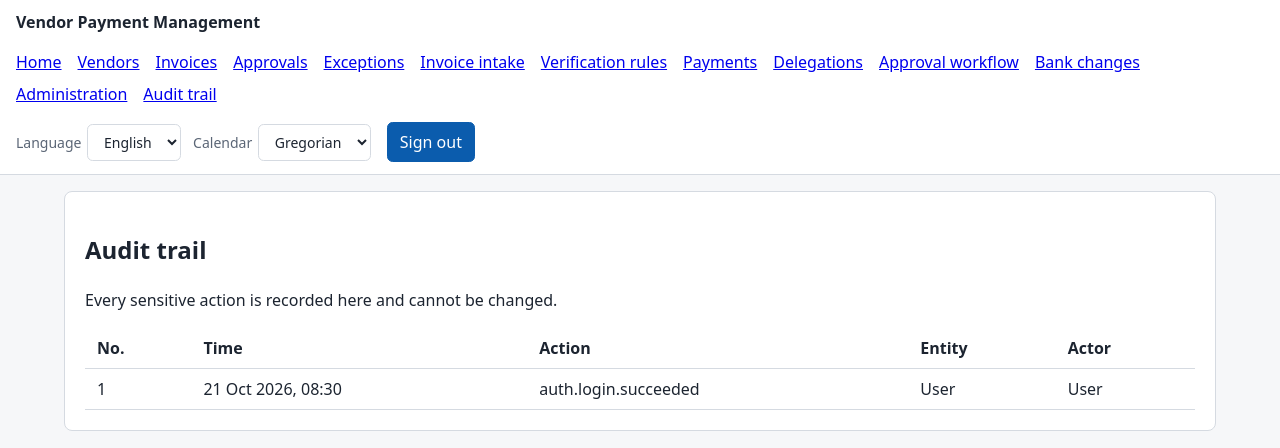
signed-in user › lists audit events with Hijri dates when the Hijri calendar is selected
Check: the text "auth.login.succeeded" is shown, box [527,369,908,410]
Check: the text "21 Oct 2026, 08:30" is shown, box [191,369,527,410]
Step 1. Select "Hijri" in the dropdown with test id "calendar-select" → [314, 142], box [258,124,371,161]
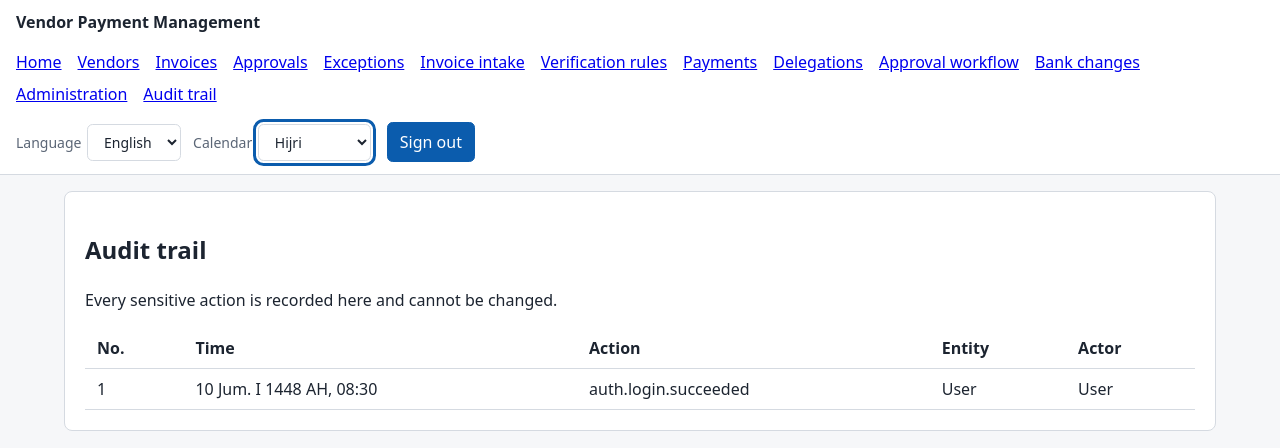
Check: the text "1448" is shown, box [195,378,377,400]
